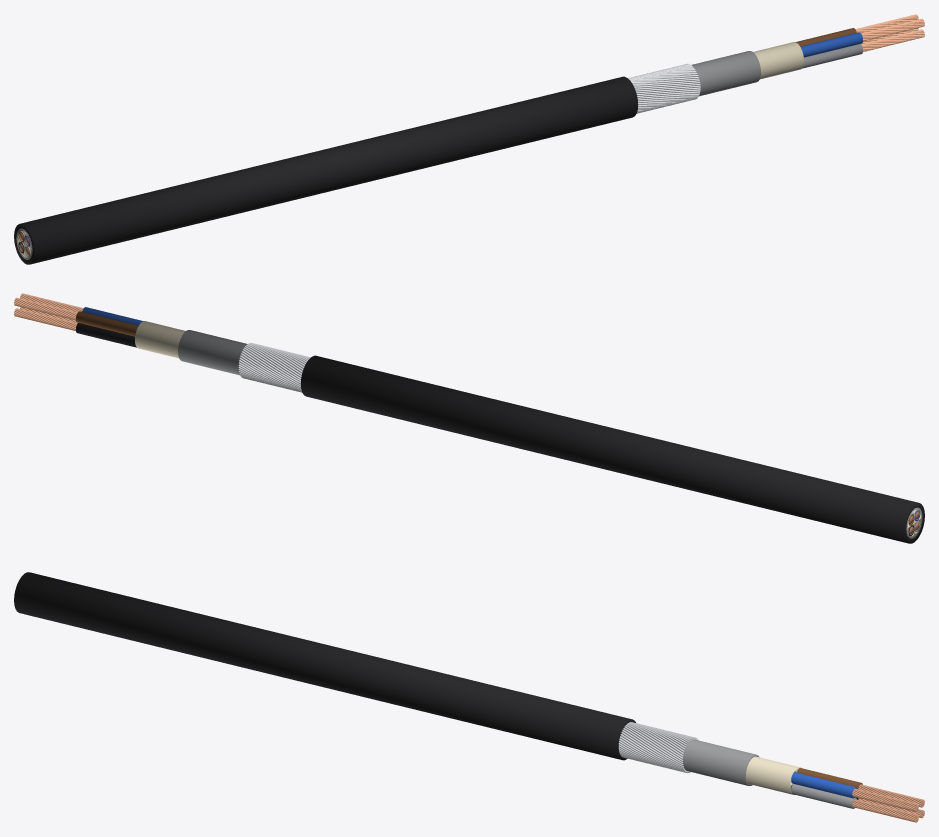
The model's file is cable.glb.
3 views of the same model, one above another, from view 1: azimuth 30°, elevation 25°; view 2: azimuth 150°, elevation 25°; view 3: azimuth 330°, elevation 25° (orthographic).
Parts seen in each view (by area): view 1: outer_sheath, inner_sheath, filler, ins_N, ins_L3; view 2: outer_sheath, inner_sheath, filler, ins_L1, ins_L2; view 3: outer_sheath, inner_sheath, filler, ins_N, ins_L3.
Boxes of the visible parts, bbox=[...] form: outer_sheath: bbox=[14, 76, 638, 264]; inner_sheath: bbox=[16, 51, 760, 259]; filler: bbox=[17, 42, 803, 257]; ins_N: bbox=[24, 32, 862, 246]; ins_L3: bbox=[24, 44, 862, 257]; outer_sheath: bbox=[300, 355, 924, 543]; inner_sheath: bbox=[178, 330, 922, 538]; filler: bbox=[135, 321, 921, 536]; ins_L1: bbox=[76, 311, 914, 525]; ins_L2: bbox=[76, 323, 914, 536]; outer_sheath: bbox=[14, 572, 635, 760]; inner_sheath: bbox=[628, 738, 759, 785]; filler: bbox=[746, 756, 800, 794]; ins_N: bbox=[791, 772, 856, 798]; ins_L3: bbox=[791, 784, 856, 808].
Size of the model in its own units: 0.7721 by 0.0314 by 0.0314.
